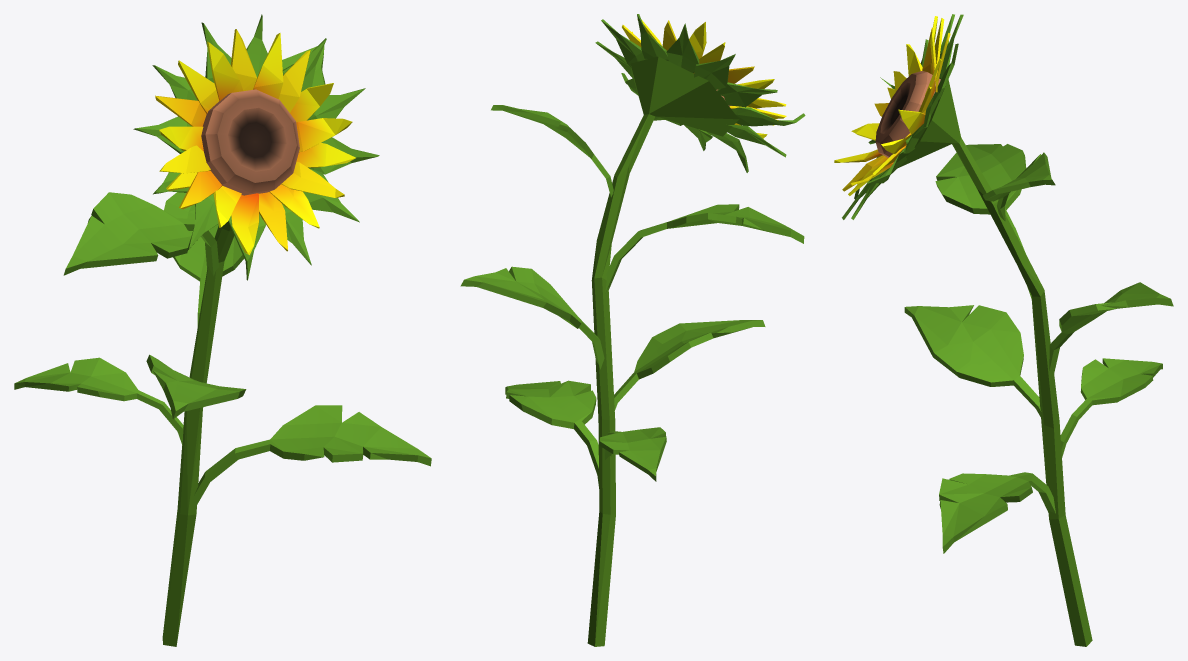
Rendered from dm11.flower.v1.01.glb.
3 views of the same model, side by side, from view 1: azimuth 30°, elevation 25°; view 2: azimuth 150°, elevation 25°; view 3: azimuth 270°, elevation 25° (orthographic). The views are drawn at different scales.
Visible parts, largest first — view 1: PP_Sunflower_04.001_PP_Standard_Material_0; view 2: PP_Sunflower_04.001_PP_Standard_Material_0; view 3: PP_Sunflower_04.001_PP_Standard_Material_0.
Boxes of the visible parts, x1,y1,x2,y2 form: PP_Sunflower_04.001_PP_Standard_Material_0: (14, 14, 431, 646); PP_Sunflower_04.001_PP_Standard_Material_0: (460, 14, 805, 646); PP_Sunflower_04.001_PP_Standard_Material_0: (834, 14, 1173, 646).
Size of the model in its own units: 0.2462 by 0.4477 by 0.224.
1 material, 1 textured.
